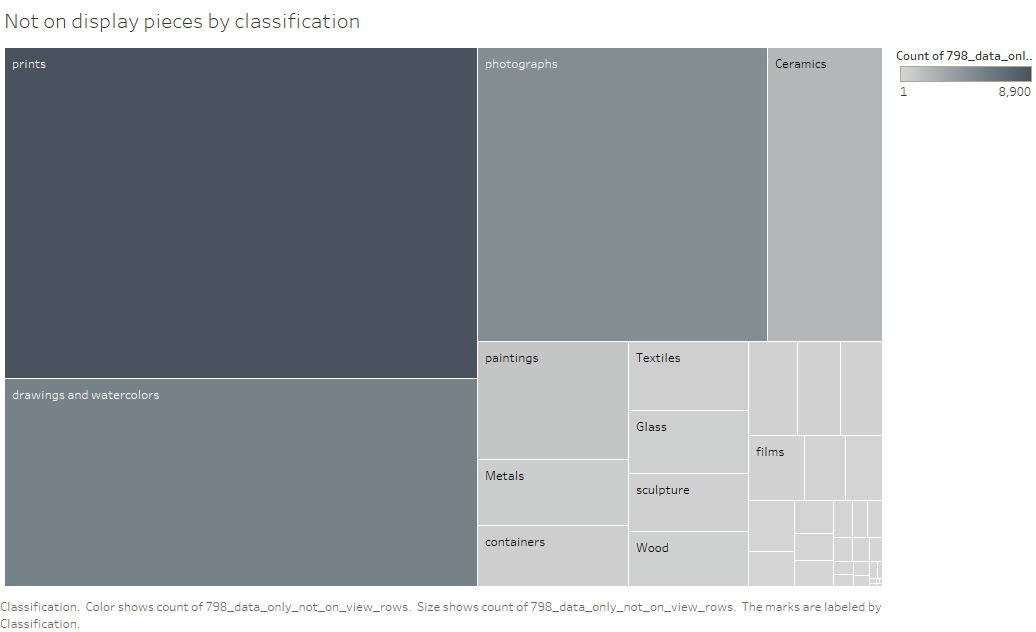

The dashboard page shown, as its layout file describes it:
{"tool":"tableau","page":{"name":"Dashboard 1","canvas":[1000,800],"ordinal":0},"visuals":[{"type":"worksheet","title":"Sheet 2","mark":"Automatic","rows":["798!data!only!not!on!view!rows_52761707DF0A46CA932B8A59ADC1F"],"cols":["date_acquired"],"box":[8,8,984,784]}]}

Visuals, with their boxes on the page's 1000x800 design canvas (x1, y1, x2, y2). These are canvas units, not pixel positions in the 1036x632 screenshot, which may show the page scaled, cropped or inside an application window:
"Sheet 2" worksheet: 8 8 992 792
